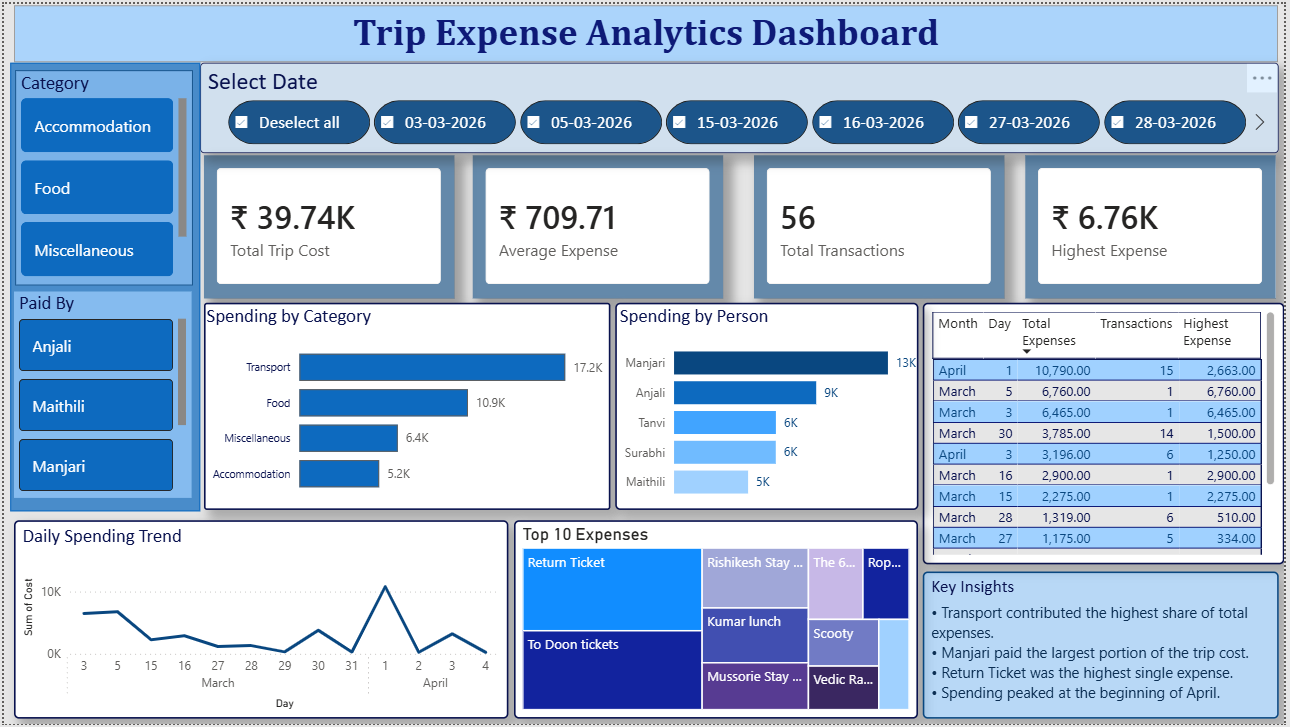

The dashboard page shown, as its layout file describes it:
{"tool":"powerbi","page":{"name":"Page 1","canvas":[1280,720],"ordinal":0},"visuals":[{"type":"cardVisual","fields":{"Data":["Trip_expense_python_cleaned.Total Trip Cost"]},"box":[200,151,250,142.9],"z":1000},{"type":"textbox","box":[10,1.4,1264.3,57.1],"z":2000},{"type":"cardVisual","fields":{"Data":["Trip_expense_python_cleaned.Average Expense"]},"box":[468.6,151,250,142.9],"z":3000},{"type":"cardVisual","fields":{"Data":["Trip_expense_python_cleaned.Total Transactions"]},"box":[750,151,250,142.9],"z":4000},{"type":"advancedSlicerVisual","title":"Select Date","fields":{"Values":["Trip_expense_python_cleaned.Date"]},"box":[195.7,58.6,1078.6,90],"z":5000},{"type":"cardVisual","fields":{"Data":["Trip_expense_python_cleaned.Highest Expense"]},"box":[1021.4,151,250,142.9],"z":6000},{"type":"clusteredBarChart","title":"Spending by Category","fields":{"Category":["Trip_expense_python_cleaned.Expense Category"],"Y":["Sum(Trip_expense_python_cleaned.Cost)"]},"box":[200,298.8,406.2,207.5],"z":7000},{"type":"tableEx","fields":{"Values":["Trip_expense_python_cleaned.Date.Variation.Date Hierarchy.Month","Trip_expense_python_cleaned.Date.Variation.Date Hierarchy.Day","Sum(Trip_expense_python_cleaned.Cost)","Trip_expense_python_cleaned.Total Transactions","Trip_expense_python_cleaned.Highest Expense"]},"box":[918.8,298.8,361.2,261.2],"z":8000},{"type":"barChart","title":"Spending by Person","fields":{"Category":["Trip_expense_python_cleaned.Paid by"],"Y":["Sum(Trip_expense_python_cleaned.Cost)"]},"box":[611.4,298.6,302.9,207.1],"z":9000},{"type":"shape","box":[5.7,58.6,190,448.6],"z":10000},{"type":"lineChart","title":"Daily Spending Trend","fields":{"Category":["Trip_expense_python_cleaned.Date.Variation.Date Hierarchy.Month","Trip_expense_python_cleaned.Date.Variation.Date Hierarchy.Day"],"Y":["Sum(Trip_expense_python_cleaned.Cost)"]},"box":[10,515.7,494.3,198.6],"z":11000},{"type":"treemap","title":"Top 10 Expenses","fields":{"Group":["Trip_expense_python_cleaned.Description"],"Values":["Sum(Trip_expense_python_cleaned.Cost)"]},"box":[510,515.7,404.3,198.6],"z":12000},{"type":"advancedSlicerVisual","title":"Category","fields":{"Values":["Trip_expense_python_cleaned.Expense Category"]},"box":[11.7,66.7,177.5,215],"z":13000},{"type":"advancedSlicerVisual","title":"Paid By","fields":{"Values":["Trip_expense_python_cleaned.Paid by"]},"box":[10,287.8,177.8,206.7],"z":14000},{"type":"textbox","title":"Key Insights","box":[919.2,567.5,355.8,147.5],"z":14001}]}

Visuals, with their boxes in screenshot pixels (x1, y1, x2, y2), scaled from the page's 1280x720 canvas onto the 1290x727 screenshot:
cardVisual - Trip_expense_python_cleaned.Total Trip Cost: (x1=202, y1=152, x2=454, y2=297)
textbox: (x1=10, y1=1, x2=1284, y2=59)
cardVisual - Trip_expense_python_cleaned.Average Expense: (x1=472, y1=152, x2=724, y2=297)
cardVisual - Trip_expense_python_cleaned.Total Transactions: (x1=756, y1=152, x2=1008, y2=297)
"Select Date" advancedSlicerVisual: (x1=197, y1=59, x2=1284, y2=150)
cardVisual - Trip_expense_python_cleaned.Highest Expense: (x1=1029, y1=152, x2=1281, y2=297)
"Spending by Category" clusteredBarChart: (x1=202, y1=302, x2=611, y2=511)
tableEx - Trip_expense_python_cleaned.Date.Variation.Date Hierarchy.Month x Trip_expense_python_cleaned.Date.Variation.Date Hierarchy.Day: (x1=926, y1=302, x2=1289, y2=565)
"Spending by Person" barChart: (x1=616, y1=302, x2=921, y2=511)
shape: (x1=6, y1=59, x2=197, y2=512)
"Daily Spending Trend" lineChart: (x1=10, y1=521, x2=508, y2=721)
"Top 10 Expenses" treemap: (x1=514, y1=521, x2=921, y2=721)
"Category" advancedSlicerVisual: (x1=12, y1=67, x2=191, y2=284)
"Paid By" advancedSlicerVisual: (x1=10, y1=291, x2=189, y2=499)
"Key Insights" textbox: (x1=926, y1=573, x2=1285, y2=722)
